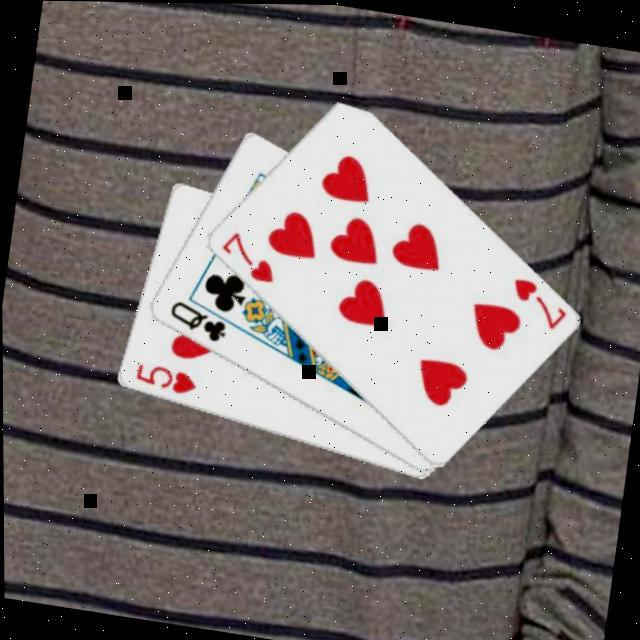5H: (128, 357, 198, 398)
7H: (501, 269, 572, 331), (212, 224, 280, 285)
QC: (162, 294, 230, 344)
